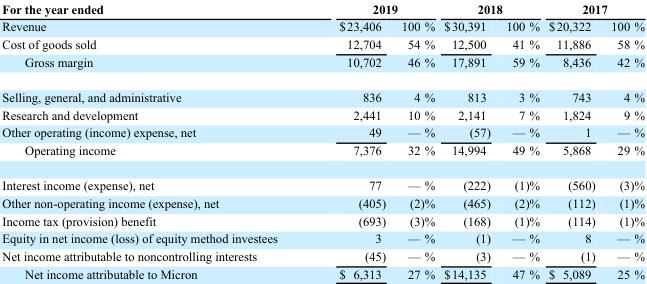table: (1, 1, 643, 280)
table column: (1, 1, 307, 280), (307, 1, 392, 280), (438, 1, 497, 280), (543, 1, 602, 280), (392, 1, 438, 280), (497, 1, 543, 280), (602, 1, 643, 280)
table column header: (1, 1, 643, 34)
table row: (1, 52, 643, 79), (1, 140, 643, 167), (1, 79, 643, 105), (1, 167, 643, 193), (1, 34, 643, 52), (1, 105, 643, 123), (1, 193, 643, 211), (1, 211, 643, 229), (1, 229, 643, 247), (1, 17, 643, 34), (1, 123, 643, 140), (1, 247, 643, 264), (1, 1, 643, 17), (1, 264, 643, 280)
table spanning cell: (1, 1, 307, 34), (307, 1, 438, 17), (438, 1, 543, 17), (543, 1, 643, 17)
